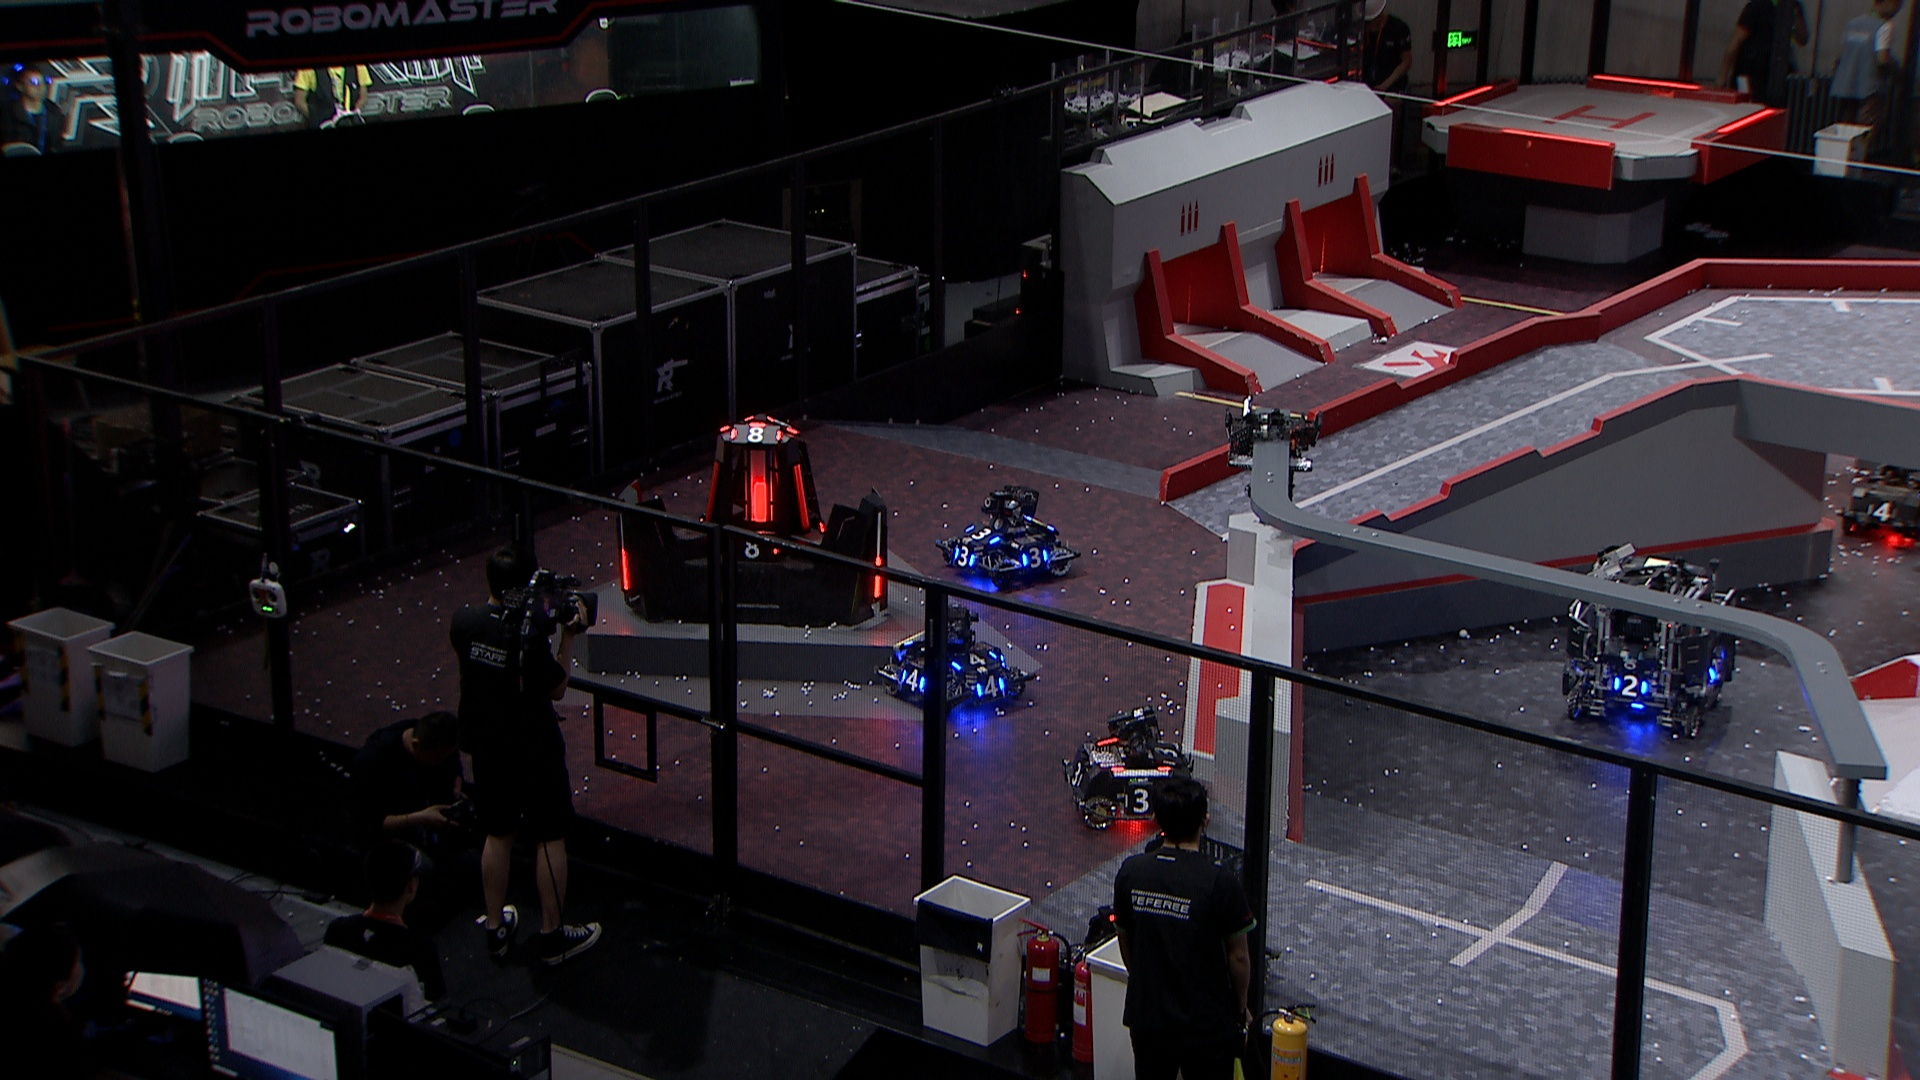armor: (790, 463, 812, 531), (703, 458, 721, 527), (733, 535, 778, 559), (951, 647, 996, 671), (749, 477, 771, 522), (1613, 673, 1650, 698), (731, 423, 781, 440), (1122, 789, 1156, 812), (1153, 740, 1178, 767), (968, 524, 997, 545), (977, 678, 1007, 698), (901, 669, 924, 694), (618, 549, 632, 593), (1869, 504, 1898, 524), (873, 553, 885, 600), (1021, 547, 1048, 567), (953, 543, 975, 568), (1069, 756, 1087, 785), (1706, 659, 1722, 680)
base: (611, 413, 891, 626)
car: (1556, 547, 1746, 738), (1084, 832, 1269, 992), (880, 603, 1034, 711), (1059, 707, 1196, 825), (934, 480, 1073, 591), (1836, 448, 1920, 549)
watcher: (1221, 390, 1323, 512)
